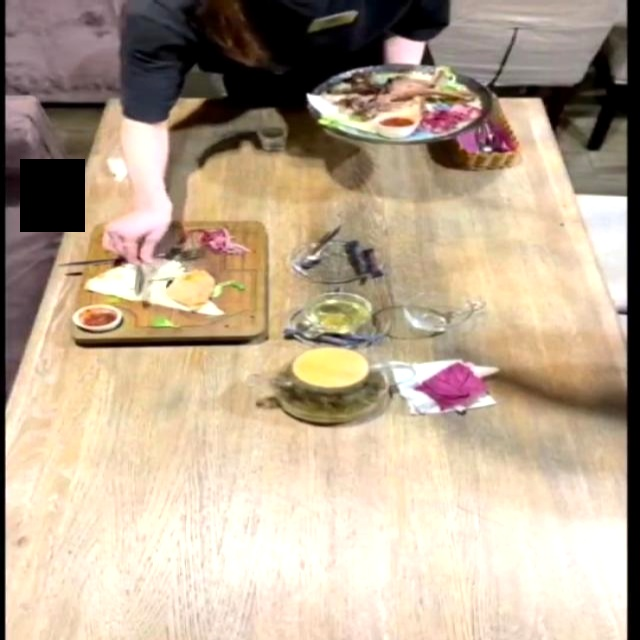meat: (64, 220, 268, 341), (310, 66, 483, 139)
tea: (264, 320, 403, 446)
